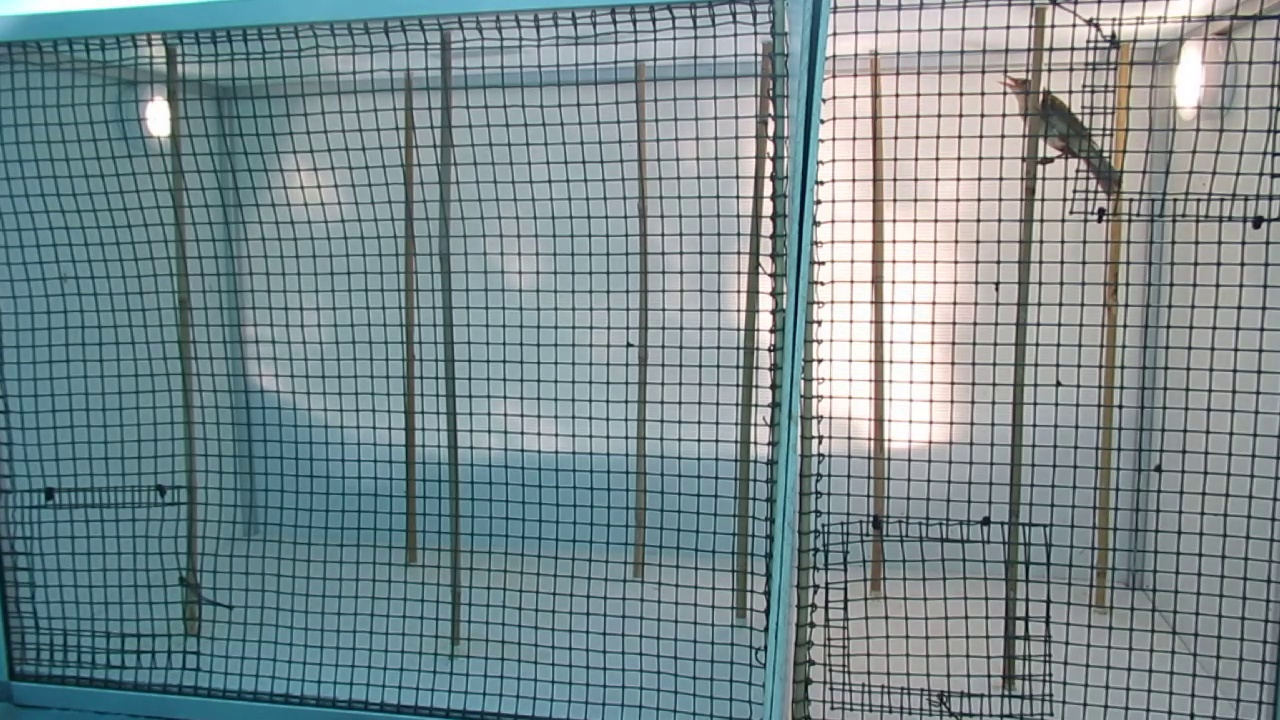bird: (1001, 70, 1112, 200)
stick: (1002, 13, 1044, 684), (733, 46, 777, 617), (1094, 45, 1133, 605), (164, 48, 200, 629), (437, 37, 463, 643), (401, 78, 421, 564), (866, 59, 883, 588), (634, 62, 649, 577)
